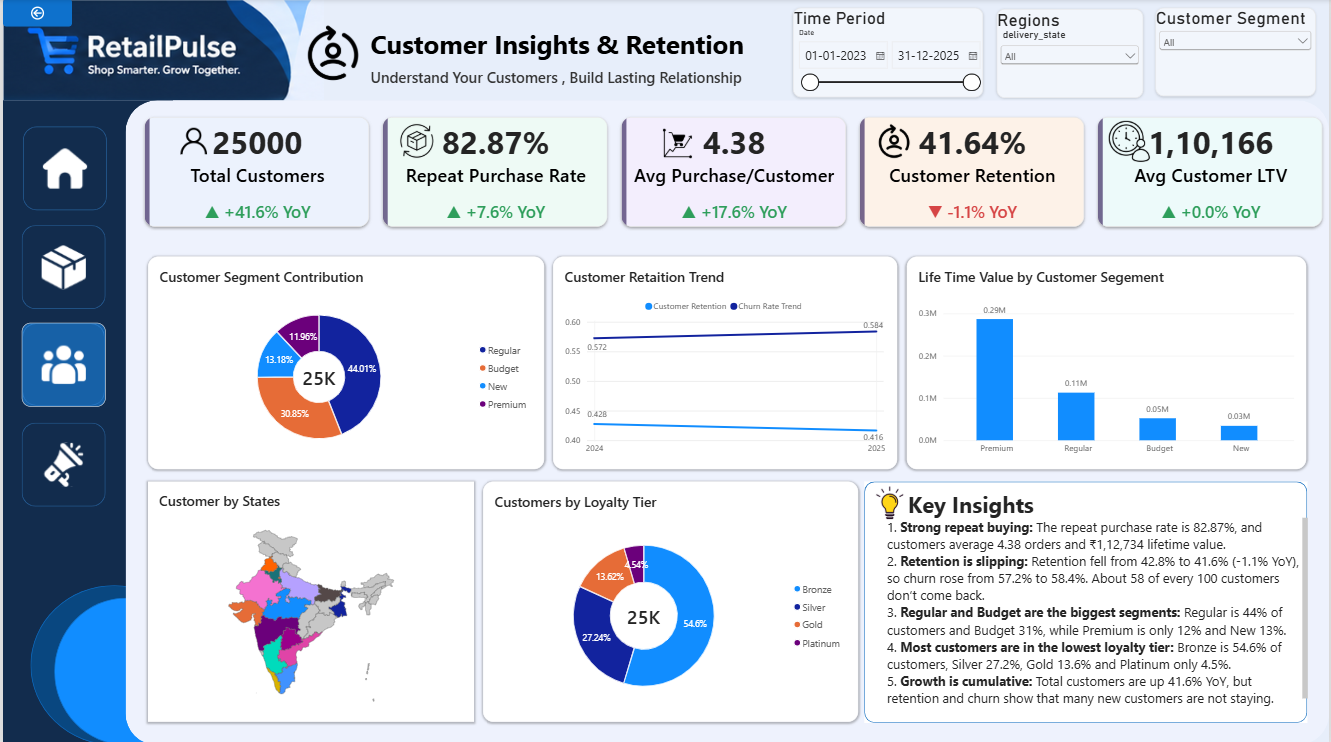

Layout of this report page (visuals, bound fields, positions):
{"tool":"powerbi","page":{"name":"Customer Dashboard","canvas":[1920,1080],"ordinal":2},"visuals":[{"type":"shape","box":[1246.1,698.8,641.2,349.4],"z":0,"group":"g2"},{"type":"shape","box":[0,146.6,246.1,933.8],"z":1000},{"type":"image","box":[1244.2,706.4,77.3,47.2],"z":1000,"group":"g2"},{"type":"image","box":[0,1.8,465.1,144.8],"z":2000},{"type":"textbox","box":[1310.2,710.1,299.9,47.2],"z":2000,"group":"g2"},{"type":"textbox","box":[1279.2,752,609.6,275.8],"z":3000,"group":"g2"},{"type":"shape","box":[39.8,848.7,242.5,231.6],"z":3000},{"type":"shape","box":[74.2,866.8,208.1,213.5],"z":4000},{"type":"shape","box":[176.6,146.6,1742.7,933.8],"z":5000},{"type":"textbox","box":[532.2,39.7,993.4,116.9],"z":6000},{"type":"textbox","box":[532.2,98.1,928.4,244.3],"z":7000},{"type":"donutChart","title":"Customer Segment Contribution","fields":{"Category":["public customers.customer_segment"],"Y":["CountNonNull(public customers.customer_segment)"]},"box":[209.9,372.8,573.7,307.6],"z":8000},{"type":"lineChart","title":"Customer RetaintionTrend","fields":{"Category":["Date.Year"],"Y":["public customers.Customer Retention Rate","public customers.Churn Rate Trend"]},"box":[796.7,373.7,498.2,307.9],"z":9000},{"type":"columnChart","title":"Life Time Value by Customer Segement","fields":{"Category":["public customers.customer_segment"],"Y":["public customers.Avg Customer LTV"]},"box":[1309,373.7,578.1,307.9],"z":10000},{"type":"shapeMap","title":"Customer by States","fields":{"Category":["public orders.delivery_state"],"Series":["public orders.customer_id"],"Value":["public orders.Total Revenue Crore"]},"box":[209.2,698,472.4,347.8],"z":11000},{"type":"donutChart","title":"Customers by Loyalty Tier","fields":{"Category":["public customers.loyalty_tier"],"Y":["CountNonNull(public customers.loyalty_tier)"]},"box":[695.6,698,542.9,347.8],"z":12000},{"type":"slicer","title":"Time Period","fields":{"Values":["Date.Date"]},"box":[1143.3,13.6,275.2,129.8],"z":14000},{"type":"actionButton","box":[0,0,100,40],"z":15000},{"type":"slicer","title":"Regions","fields":{"Values":["public orders.delivery_state"]},"box":[1438.7,14.5,211.7,128.5],"z":16000},{"type":"slicer","title":"Customer Segment","fields":{"Values":["public customers.customer_segment"]},"box":[1669.2,13.4,231.6,128.3],"z":17000},{"type":"actionButton","box":[29,184.6,121.2,121.2],"z":18000},{"type":"actionButton","box":[27.1,327.5,121.2,121.2],"z":19000},{"type":"actionButton","box":[27.1,468.7,121.2,121.2],"z":20000},{"type":"actionButton","box":[27.1,613.5,121.2,121.2],"z":21000},{"type":"image","box":[423.7,31.3,108.5,93.9],"z":22000},{"type":"cardVisual","fields":{"Data":["public customers.Total Customers","public customers.Repeat Purchase Rate","public customers.Avg Purchases per Customer","public customers.Customer Retention Rate","public customers.Avg Customer LTV"]},"box":[199,164.7,1721,171.9],"z":23000,"group":"g1"},{"type":"image","box":[257,186.4,38,38],"z":24000,"group":"g1"},{"type":"image","box":[548.3,179.2,101.3,52.5],"z":25000,"group":"g1"},{"type":"image","box":[946.4,182.8,59.7,52.5],"z":26000,"group":"g1"},{"type":"image","box":[1261.3,164.7,57.9,81.4],"z":27000,"group":"g1"},{"type":"image","box":[1588.8,179.2,56.1,61.5],"z":28000,"group":"g1"},{"type":"group","id":"g1","title":"Group 1","box":[199,164.7,1721,171.9],"z":28001},{"type":"group","id":"g2","title":"Group 2","box":[1244.2,698.8,644.7,349.4],"z":28002}]}

Visuals, with their boxes on the page's 1920x1080 design canvas (x1, y1, x2, y2). These are canvas units, not pixel positions in the 1331x742 screenshot, which may show the page scaled, cropped or inside an application window:
shape: x1=1246 y1=699 x2=1887 y2=1048
shape: x1=0 y1=147 x2=246 y2=1080
image: x1=1244 y1=706 x2=1322 y2=754
image: x1=0 y1=2 x2=465 y2=147
textbox: x1=1310 y1=710 x2=1610 y2=757
textbox: x1=1279 y1=752 x2=1889 y2=1028
shape: x1=40 y1=849 x2=282 y2=1080
shape: x1=74 y1=867 x2=282 y2=1080
shape: x1=177 y1=147 x2=1919 y2=1080
textbox: x1=532 y1=40 x2=1526 y2=157
textbox: x1=532 y1=98 x2=1461 y2=342
"Customer Segment Contribution" donutChart: x1=210 y1=373 x2=784 y2=680
"Customer RetaintionTrend" lineChart: x1=797 y1=374 x2=1295 y2=682
"Life Time Value by Customer Segement" columnChart: x1=1309 y1=374 x2=1887 y2=682
"Customer by States" shapeMap: x1=209 y1=698 x2=682 y2=1046
"Customers by Loyalty Tier" donutChart: x1=696 y1=698 x2=1238 y2=1046
"Time Period" slicer: x1=1143 y1=14 x2=1418 y2=143
actionButton: x1=0 y1=0 x2=100 y2=40
"Regions" slicer: x1=1439 y1=14 x2=1650 y2=143
"Customer Segment" slicer: x1=1669 y1=13 x2=1901 y2=142
actionButton: x1=29 y1=185 x2=150 y2=306
actionButton: x1=27 y1=328 x2=148 y2=449
actionButton: x1=27 y1=469 x2=148 y2=590
actionButton: x1=27 y1=614 x2=148 y2=735
image: x1=424 y1=31 x2=532 y2=125
cardVisual - public customers.Total Customers x public customers.Repeat Purchase Rate: x1=199 y1=165 x2=1920 y2=337
image: x1=257 y1=186 x2=295 y2=224
image: x1=548 y1=179 x2=650 y2=232
image: x1=946 y1=183 x2=1006 y2=235
image: x1=1261 y1=165 x2=1319 y2=246
image: x1=1589 y1=179 x2=1645 y2=241
"Group 1" group: x1=199 y1=165 x2=1920 y2=337
"Group 2" group: x1=1244 y1=699 x2=1889 y2=1048
